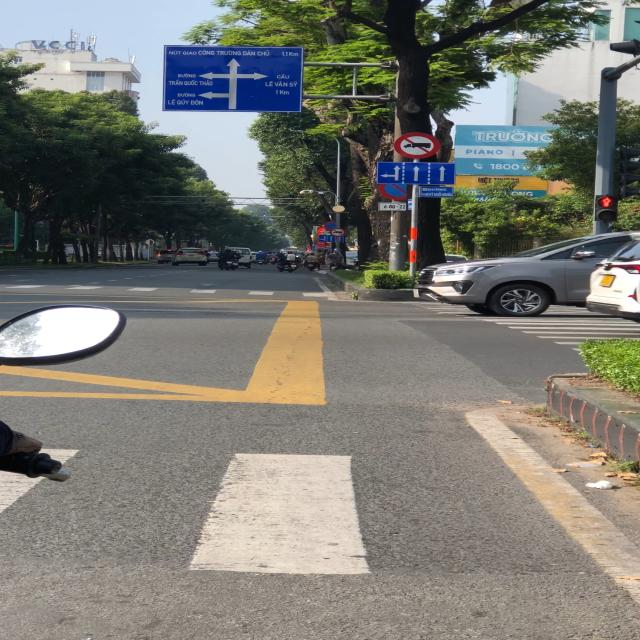Bien bao cam xe so-mi ro-mooc: (392, 130, 446, 161), (328, 226, 346, 238)
